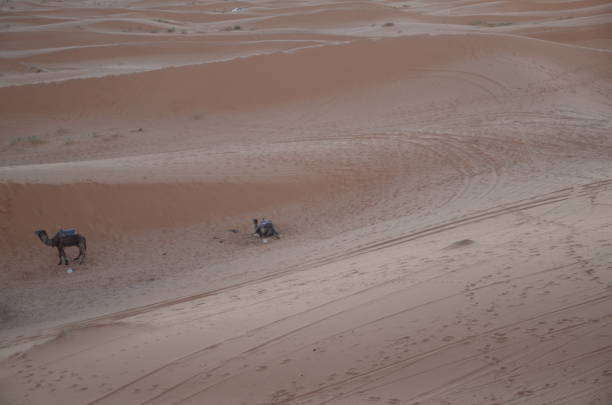vehicle_track: (58, 179, 611, 329), (291, 293, 611, 403)
